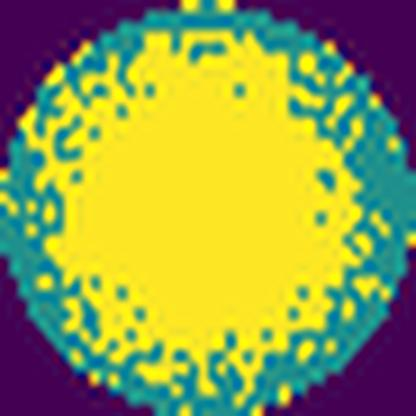Center: (47, 22, 360, 380)
